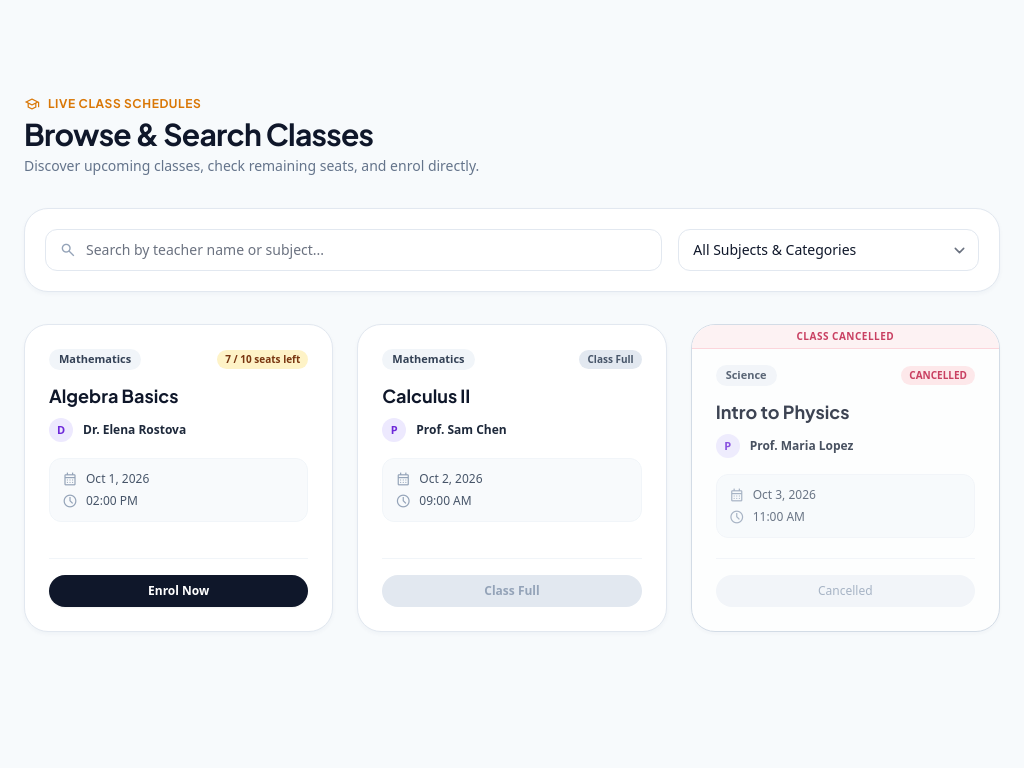
ClassesPage › shows the empty state when no class matches the search, and Reset Filters clears it
Expected: the text "Prof. Sam Chen" is shown, 416,422 -> 507,438
Type "nobody teaches this" into the field with placeholder "Search by teacher name or subject..." at x=354, y=250, box 45,229 -> 662,271
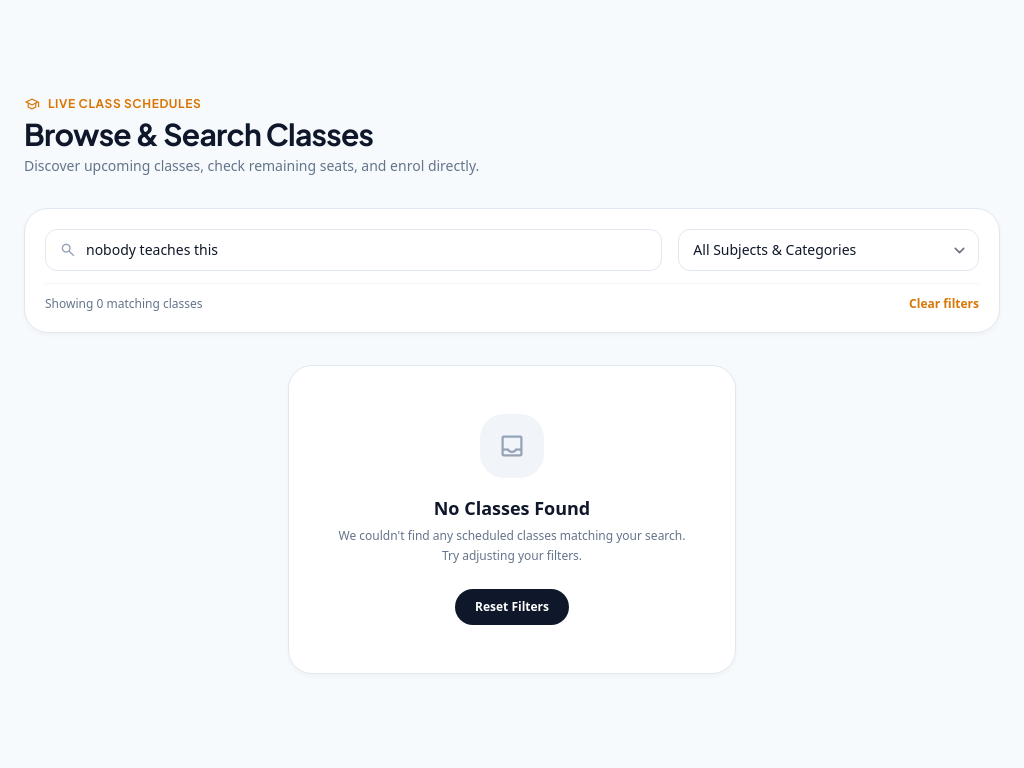
Expected: the heading "No Classes Found" is shown, 434,496 -> 590,520
Click the button "Reset Filters" at x=512, y=607, box 455,589 -> 569,625
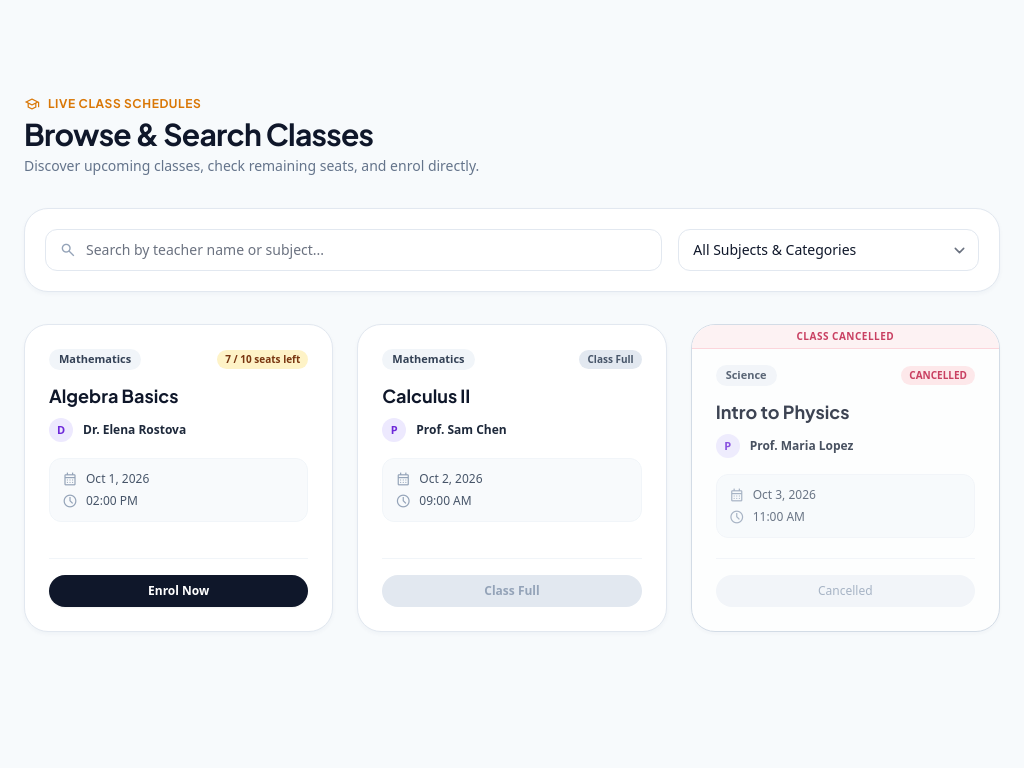
Expected: the text "Prof. Sam Chen" is shown, 416,422 -> 507,438
